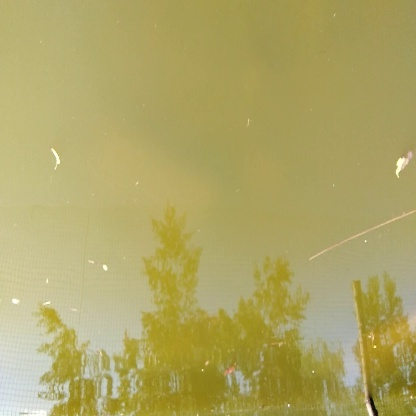branch: (304, 209, 416, 265)
